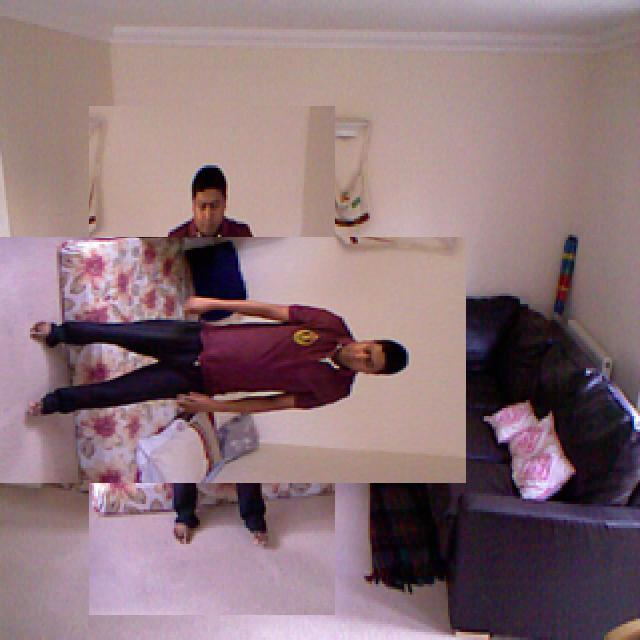NotFall: (15, 276, 451, 462)
